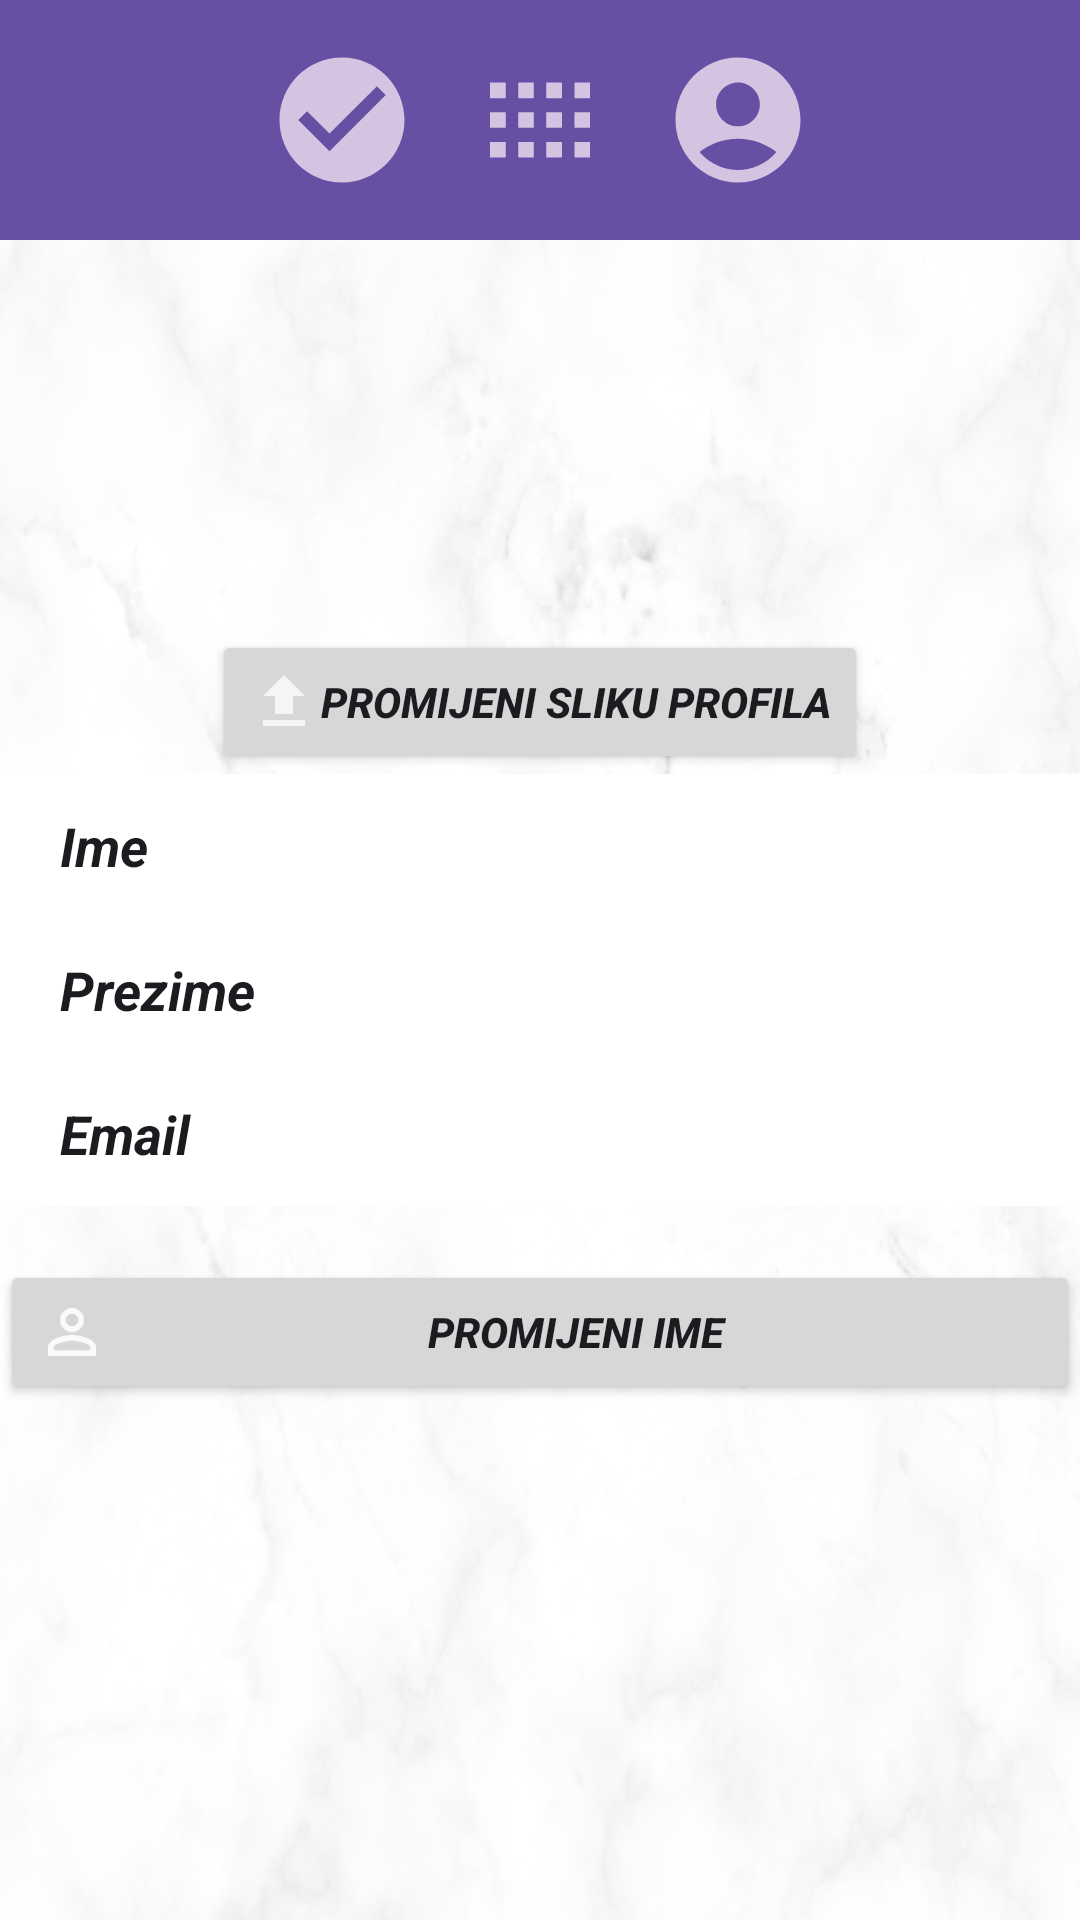

Named icons in this screenshot (1080px x 1920px) and their centers, (x,y):
Calendar: (540,120)
Profile: (738,120)
